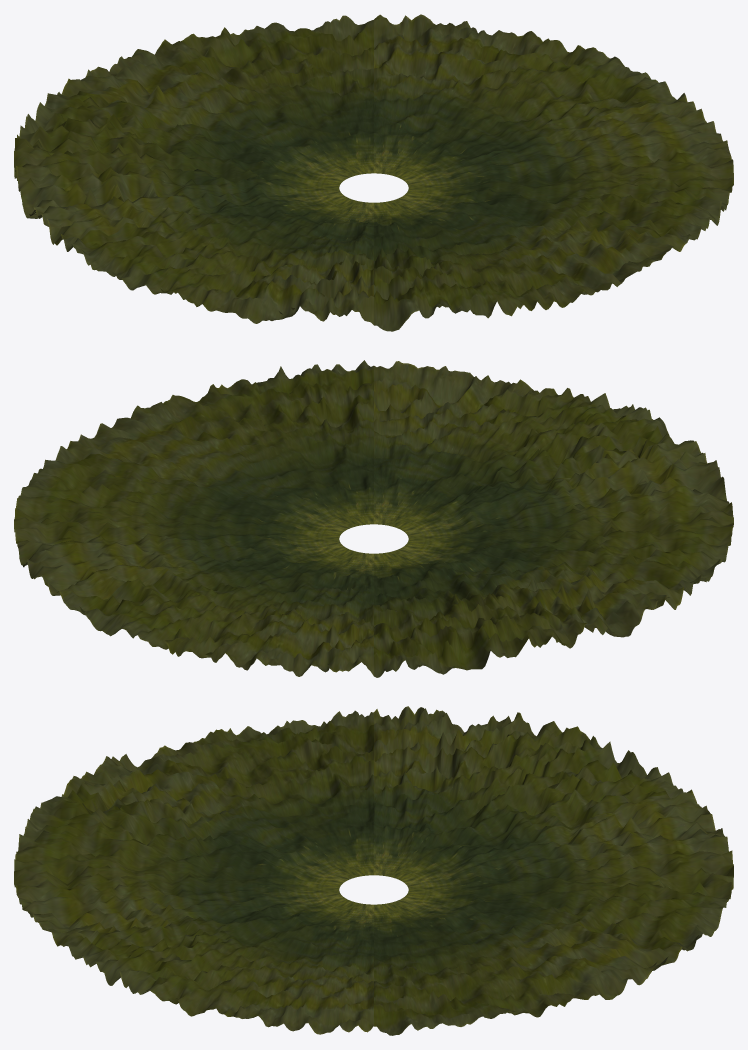
Rendered from mountains_ring.glb.
The picture shows the model from 3 angles, top to bottom: view 1: azimuth 30°, elevation 25°; view 2: azimuth 150°, elevation 25°; view 3: azimuth 270°, elevation 25°; orthographic projection.
Visible parts, largest first — view 1: montanas; view 2: montanas; view 3: montanas.
Part boxes in pixels (x1,y1,x2,y2): montanas: [14, 14, 733, 331]; montanas: [14, 360, 733, 677]; montanas: [14, 706, 733, 1035].
Bounding box in the file's own units: 5200 × 317 × 5200.
Materials: 1 (1 with a texture image).
